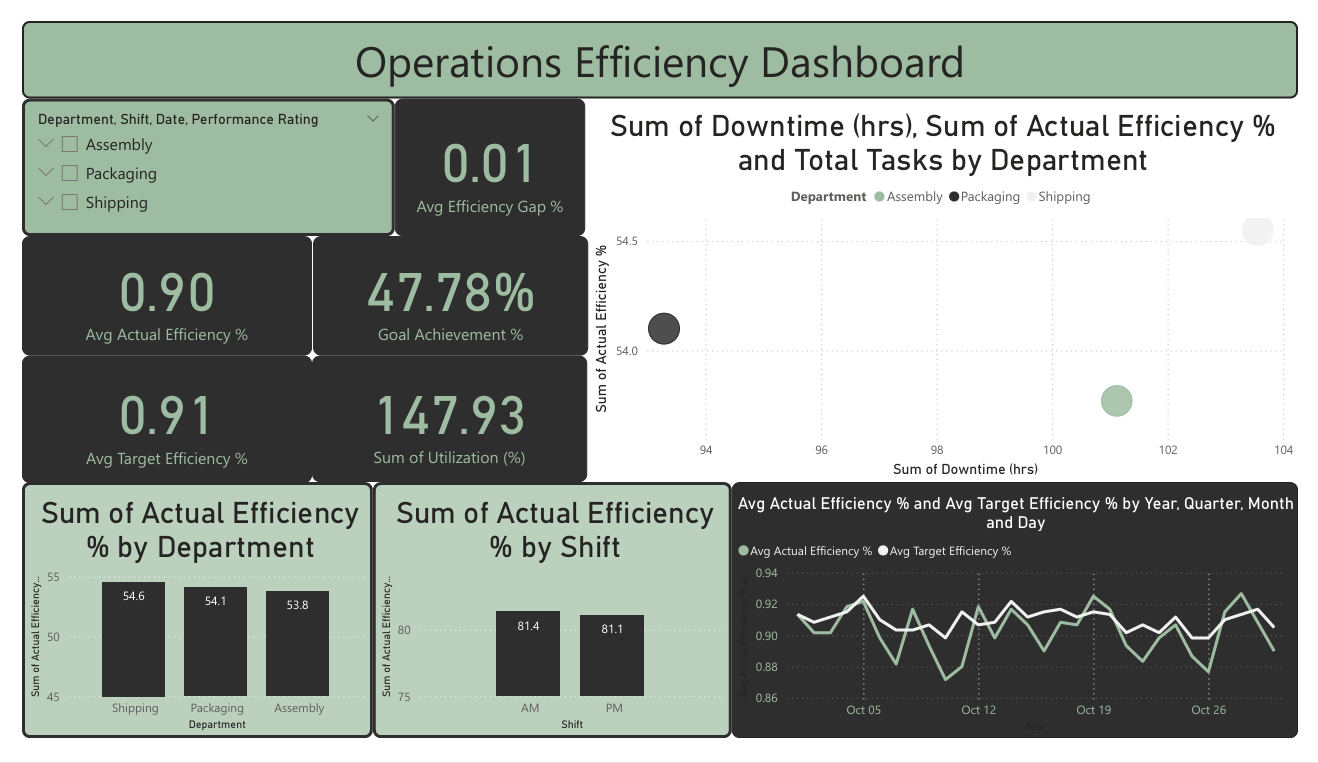

Layout of this report page (visuals, bound fields, positions):
{"tool":"powerbi","page":{"name":"Overview","canvas":[1280,720],"ordinal":4},"visuals":[{"type":"lineChart","fields":{"Y":["Sheet1.Avg Actual Efficiency %","Sheet1.Avg Target Efficiency %"],"Category":["Sheet1.Date.Variation.Date Hierarchy.Year","Sheet1.Date.Variation.Date Hierarchy.Quarter","Sheet1.Date.Variation.Date Hierarchy.Month","Sheet1.Date.Variation.Date Hierarchy.Day"]},"box":[711.9,462.7,567.7,257.3],"z":0},{"type":"clusteredColumnChart","fields":{"Category":["Sheet1.Department"],"Y":["Sum(Sheet1.Actual Efficiency %)"]},"box":[0,462.7,351.9,257.3],"z":1000},{"type":"clusteredColumnChart","fields":{"Y":["Sum(Sheet1.Actual Efficiency %)"],"Category":["Sheet1.Shift"]},"box":[351.9,462.7,360,257.3],"z":2000},{"type":"scatterChart","fields":{"X":["Sum(Sheet1.Downtime (hrs))"],"Y":["Sum(Sheet1.Actual Efficiency %)"],"Size":["Sheet1.Total Tasks"],"Series":["Sheet1.Department"]},"box":[567.7,78.5,711.9,384.2],"z":3000},{"type":"card","fields":{"Values":["Sheet1.Avg Actual Efficiency %"]},"box":[0,215.8,290.8,120],"z":4000},{"type":"card","fields":{"Values":["Sheet1.Avg Efficiency Gap %"]},"box":[373.8,78.5,191.5,137.3],"z":5000},{"type":"card","fields":{"Values":["Sheet1.Goal Achievement %"]},"box":[291.9,215.8,275.8,120],"z":6000},{"type":"card","fields":{"Values":["Sheet1.Avg Target Efficiency %"]},"box":[0,335.8,290.8,128.1],"z":7000},{"type":"card","fields":{"Values":["Sum(Sheet1.Utilization (%))"]},"box":[290.8,335.8,275.8,126.9],"z":8000},{"type":"slicer","fields":{"Values":["Sheet1.Department","Sheet1.Shift","Sheet1.Date","Sheet1.Performance Rating"]},"box":[0,78.5,373.8,137.3],"z":9000},{"type":"textbox","box":[0,0,1279.6,78.5],"z":10000}]}

Visuals, with their boxes in screenshot pixels (x1, y1, x2, y2), scaled from the page's 1280x720 canvas onto the 1318x763 screenshot:
lineChart - Sheet1.Avg Actual Efficiency % x Sheet1.Avg Target Efficiency %: Rect(733, 490, 1317, 762)
clusteredColumnChart - Sheet1.Department x Sum(Sheet1.Actual Efficiency %): Rect(0, 490, 362, 762)
clusteredColumnChart - Sum(Sheet1.Actual Efficiency %) x Sheet1.Shift: Rect(362, 490, 733, 762)
scatterChart - Sum(Sheet1.Downtime (hrs)) x Sum(Sheet1.Actual Efficiency %): Rect(585, 83, 1317, 490)
card - Sheet1.Avg Actual Efficiency %: Rect(0, 229, 299, 356)
card - Sheet1.Avg Efficiency Gap %: Rect(385, 83, 582, 229)
card - Sheet1.Goal Achievement %: Rect(301, 229, 585, 356)
card - Sheet1.Avg Target Efficiency %: Rect(0, 356, 299, 492)
card - Sum(Sheet1.Utilization (%)): Rect(299, 356, 583, 490)
slicer - Sheet1.Department x Sheet1.Shift: Rect(0, 83, 385, 229)
textbox: Rect(0, 0, 1317, 83)
